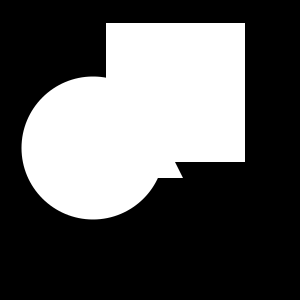circle: (106, 23, 245, 162)
rectangle: (21, 76, 164, 220)
triangle: (106, 101, 183, 178)
